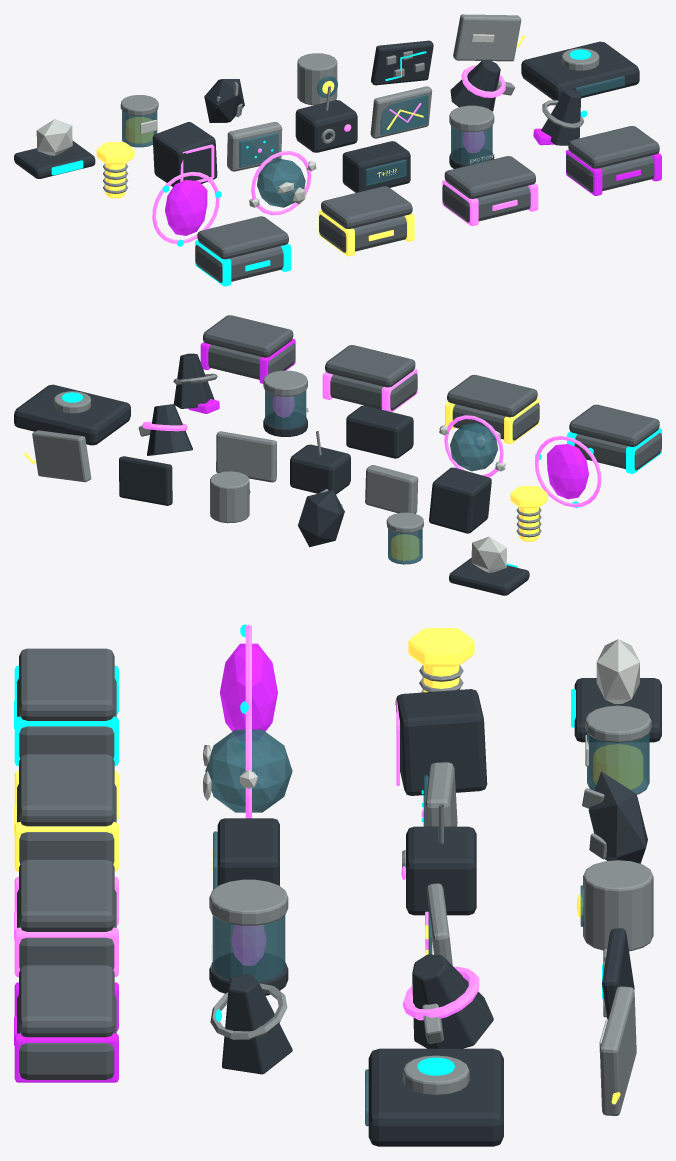
File: cosmoforge_finds_pack.glb
The picture shows the model from 3 angles, top to bottom: view 1: azimuth 30°, elevation 25°; view 2: azimuth 150°, elevation 25°; view 3: azimuth 270°, elevation 25°; orthographic projection. The views are drawn at different scales.
Parts seen in each view (by area): view 1: Archive_DisplayStand, Find_ImpossibleCube, Find_FutureTimestamp, Find_SatelliteFragment, CargoCase_Cursed_Lid, CargoCase_Common_Lid, CargoCase_Rare_Lid, CargoCase_Strange_Lid, Find_RadioWhisper, Find_OldCircuit, Find_WrongEarth, Find_FriendShapedVoid (+32 smaller); view 2: Archive_DisplayStand, Find_ImpossibleCube, Find_FutureTimestamp, Find_MapThatLies, CargoCase_Common_Lid, CargoCase_Rare_Lid, CargoCase_Strange_Lid, CargoCase_Cursed_Lid, Find_SatelliteFragment, Find_RadioWhisper, Find_OldCircuit, Find_ExtraStarPhoto (+24 smaller); view 3: Archive_DisplayStand, Find_ImpossibleCube, CargoCase_Common_Lid, CargoCase_Cursed_Lid, CargoCase_Rare_Lid, CargoCase_Strange_Lid, Find_RadioWhisper, Find_SolarSample, Find_WrongEarth, Find_UnknownDebris, Find_UnknownObject_01, Find_MeteorFragment (+28 smaller).
Part boxes in pixels (box(x1,y1,x2,y2)): Archive_DisplayStand: box(521, 41, 639, 100); Find_ImpossibleCube: box(152, 122, 217, 186); Find_FutureTimestamp: box(342, 141, 410, 192); Find_SatelliteFragment: box(453, 14, 521, 61); CargoCase_Cursed_Lid: box(568, 126, 659, 168); CargoCase_Common_Lid: box(197, 216, 288, 259); CargoCase_Rare_Lid: box(321, 186, 412, 228); CargoCase_Strange_Lid: box(444, 156, 535, 198); Find_RadioWhisper: box(295, 100, 357, 152); Find_OldCircuit: box(371, 40, 433, 85); Find_WrongEarth: box(249, 158, 316, 207); Find_FriendShapedVoid: box(162, 180, 221, 246); Archive_DisplayStand: box(14, 384, 130, 445); Find_ImpossibleCube: box(429, 467, 491, 533); Find_FutureTimestamp: box(346, 405, 413, 458); Find_MapThatLies: box(216, 431, 276, 482); CargoCase_Common_Lid: box(569, 404, 659, 446); CargoCase_Rare_Lid: box(447, 374, 537, 417); CargoCase_Strange_Lid: box(325, 345, 415, 387); CargoCase_Cursed_Lid: box(203, 315, 293, 357); Find_SatelliteFragment: box(32, 430, 91, 482); Find_RadioWhisper: box(290, 444, 350, 494); Find_OldCircuit: box(119, 456, 172, 505); Find_ExtraStarPhoto: box(365, 465, 418, 513); Archive_DisplayStand: box(368, 1048, 503, 1146); Find_ImpossibleCube: box(395, 689, 487, 795); CargoCase_Common_Lid: box(19, 648, 114, 720); CargoCase_Cursed_Lid: box(19, 965, 114, 1037); CargoCase_Rare_Lid: box(19, 754, 114, 826); CargoCase_Strange_Lid: box(19, 859, 114, 931); Find_RadioWhisper: box(406, 826, 476, 915); Find_SolarSample: box(583, 860, 653, 951); Find_WrongEarth: box(203, 729, 292, 812); Find_UnknownDebris: box(412, 954, 493, 1048); Find_UnknownObject_01: box(222, 974, 292, 1074); Find_MeteorFragment: box(582, 771, 647, 863).
Size of the model in its own units: 10.6 by 1.33 by 6.23.
